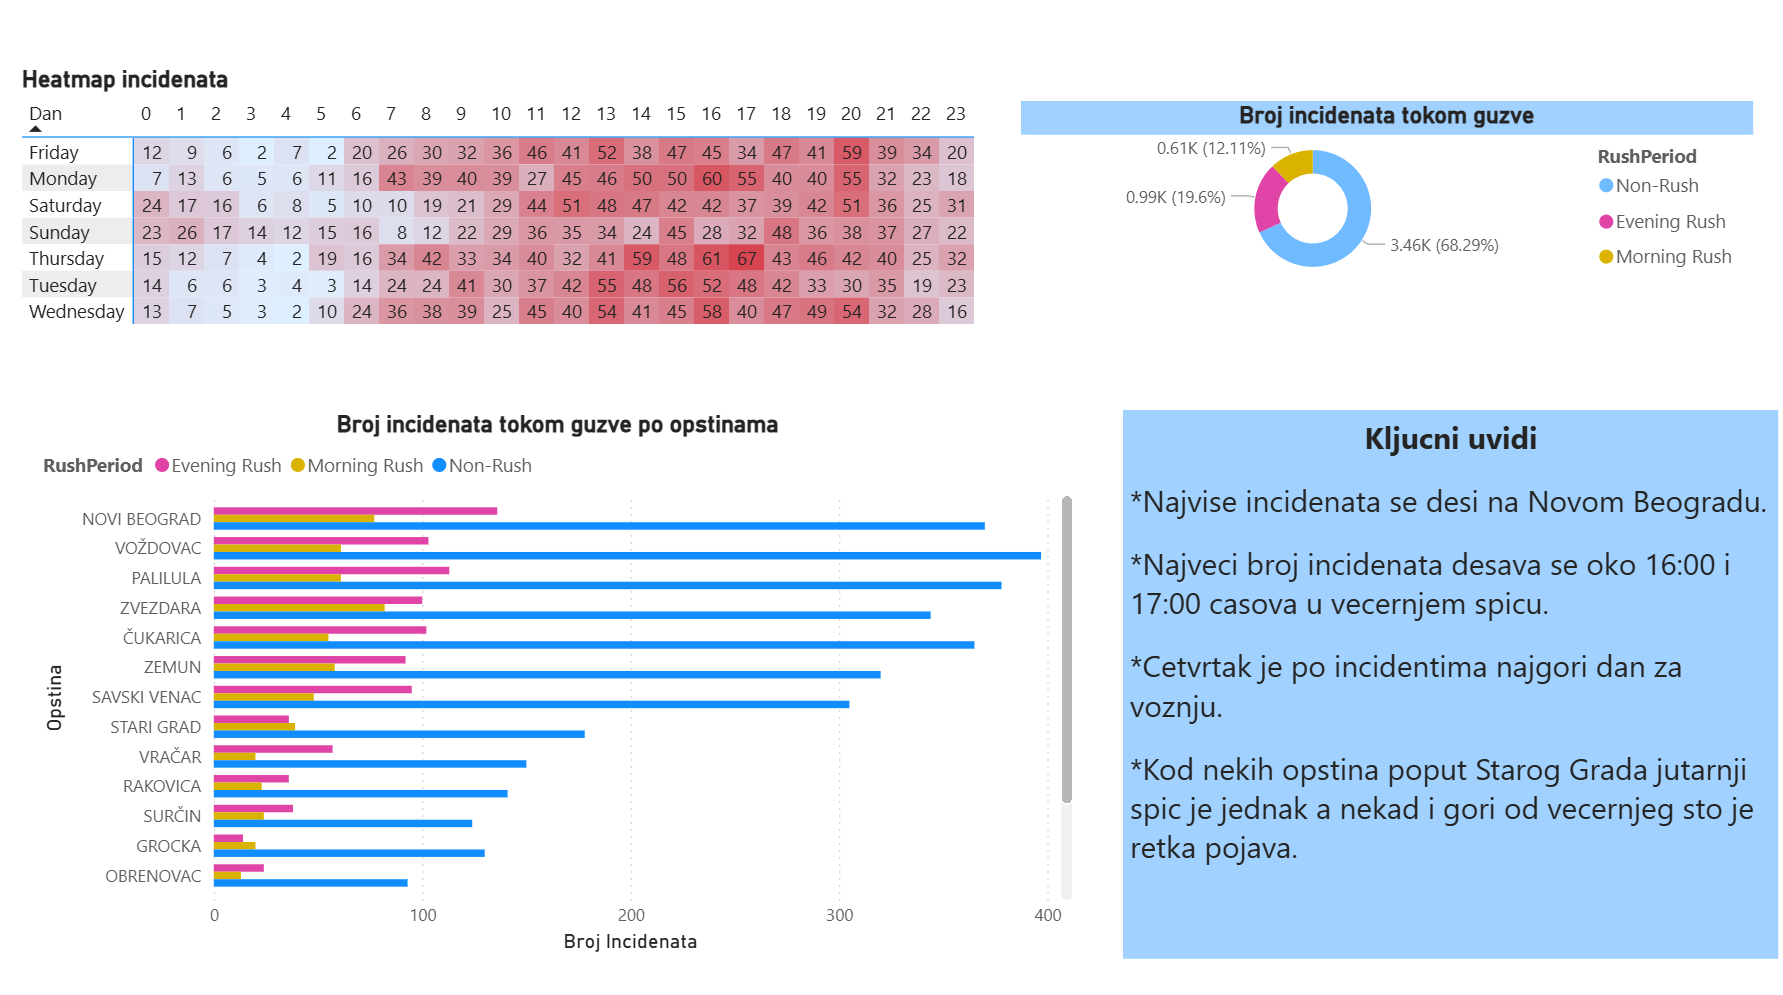

What the dashboard file says about the page in this screenshot:
{"tool":"powerbi","page":{"name":"Page 2","canvas":[1280,720],"ordinal":1},"visuals":[{"type":"pivotTable","title":"Heatmap incidenata ","fields":{"Rows":["niggareare.Dan"],"Columns":["niggareare.Hour"],"Values":["CountNonNull(niggareare.Tip stete)"]},"box":[12,47.3,960,242],"z":0},{"type":"donutChart","title":"Broj incidenata tokom guzve","fields":{"Category":["niggareare.RushPeriod"],"Y":["CountNonNull(niggareare.RushPeriod)"]},"box":[730.9,72.7,522.7,134.5],"z":1000},{"type":"clusteredBarChart","title":"Broj incidenata tokom guzve po opstinama ","fields":{"Category":["niggareare.Opstina"],"Series":["niggareare.RushPeriod"],"Y":["CountNonNull(niggareare.Opstina)"]},"box":[26.9,293.8,745.4,392.3],"z":2000},{"type":"textbox","title":"Kljucni uvidi","box":[803.8,293.8,468.5,392.3],"z":3000}]}

Visuals, with their boxes in screenshot pixels (x1, y1, x2, y2), scaled from the page's 1280x720 canvas onto the 1783x995 screenshot:
"Heatmap incidenata " pivotTable: x1=17, y1=65, x2=1354, y2=400
"Broj incidenata tokom guzve" donutChart: x1=1018, y1=100, x2=1746, y2=286
"Broj incidenata tokom guzve po opstinama " clusteredBarChart: x1=37, y1=406, x2=1076, y2=948
"Kljucni uvidi" textbox: x1=1120, y1=406, x2=1772, y2=948
